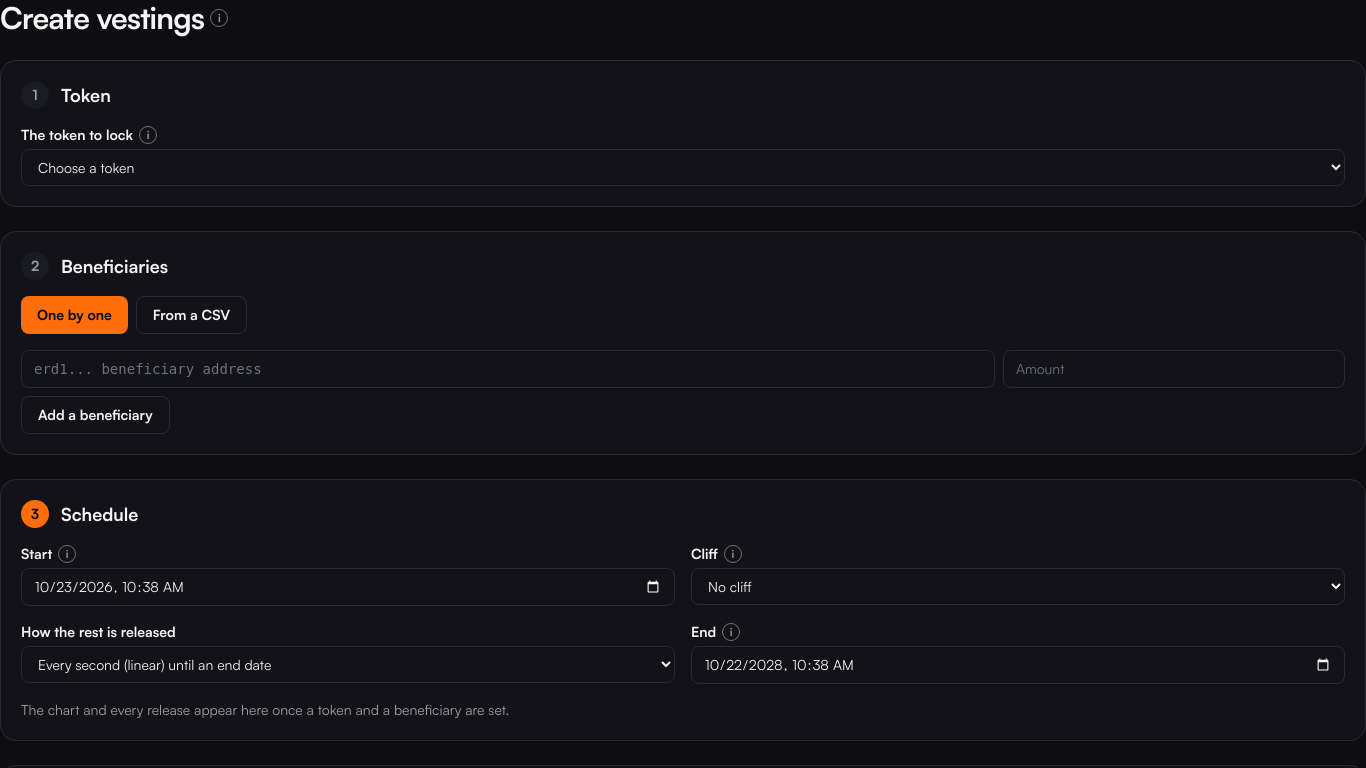
Test case: Create with the token fee set › shows 1% of each vesting, the EGLD fee and what is paid in all
Select "TFOX (TFOX-d61b09): 1,000,000,000,000" in the dropdown showing "Choose a token" below "The token to lock" at [683, 168], box [21,149,1345,186]
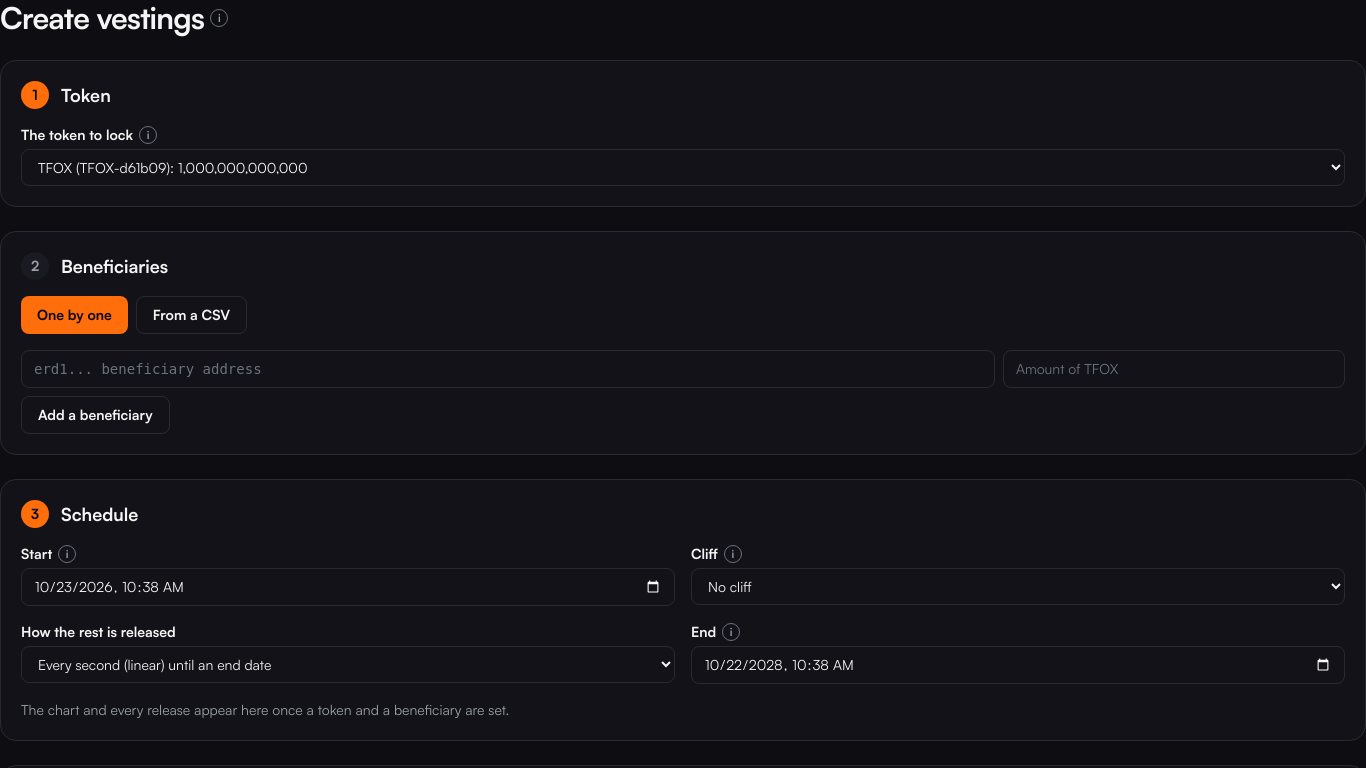
Type "erd14e7zqk5qz47fu7z75rmvzrzt5cvmffe9n7s73679xt6khu09erksehgl4u" into the field with placeholder "erd1... beneficiary address" at [508, 369], box [21,350,995,388]
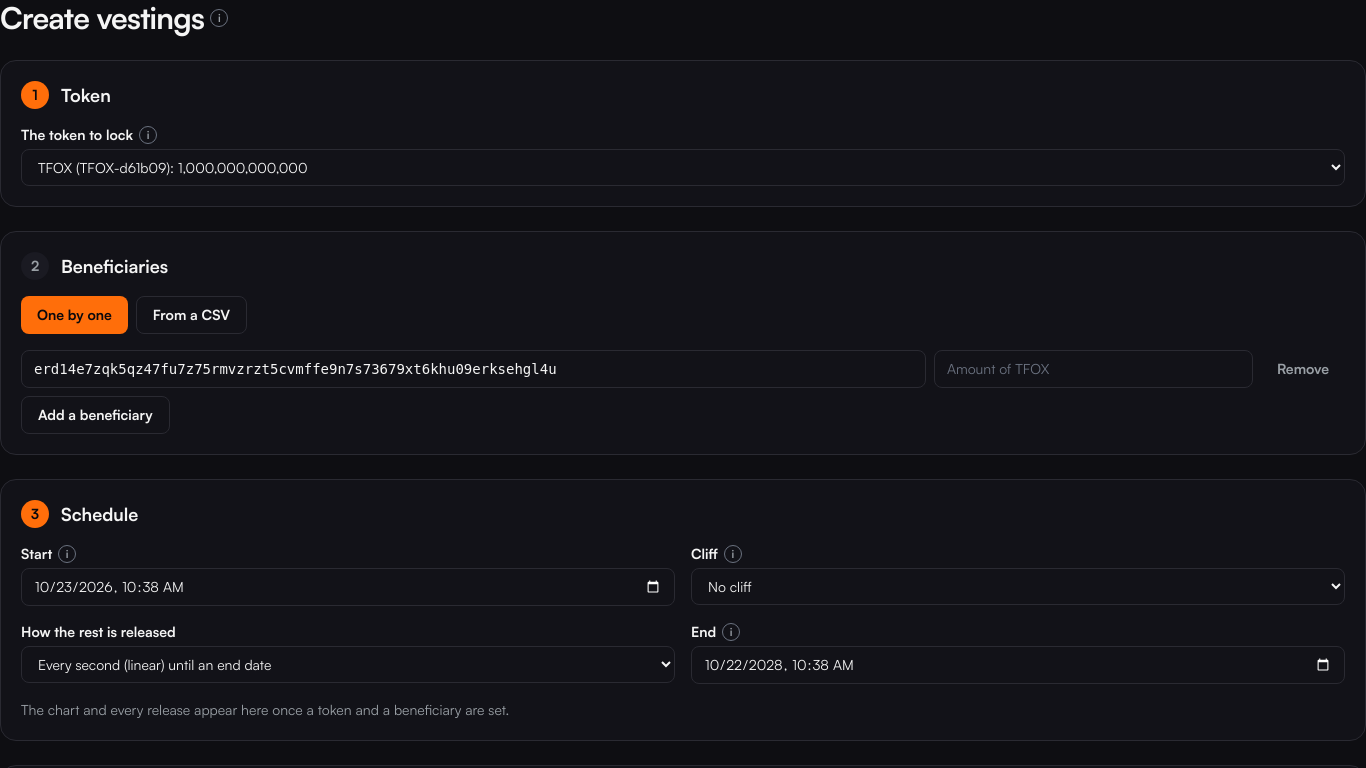
Type "1000" into the field with placeholder "Amount of TFOX" at [1094, 369], box [934,350,1253,388]
(page scrolled)
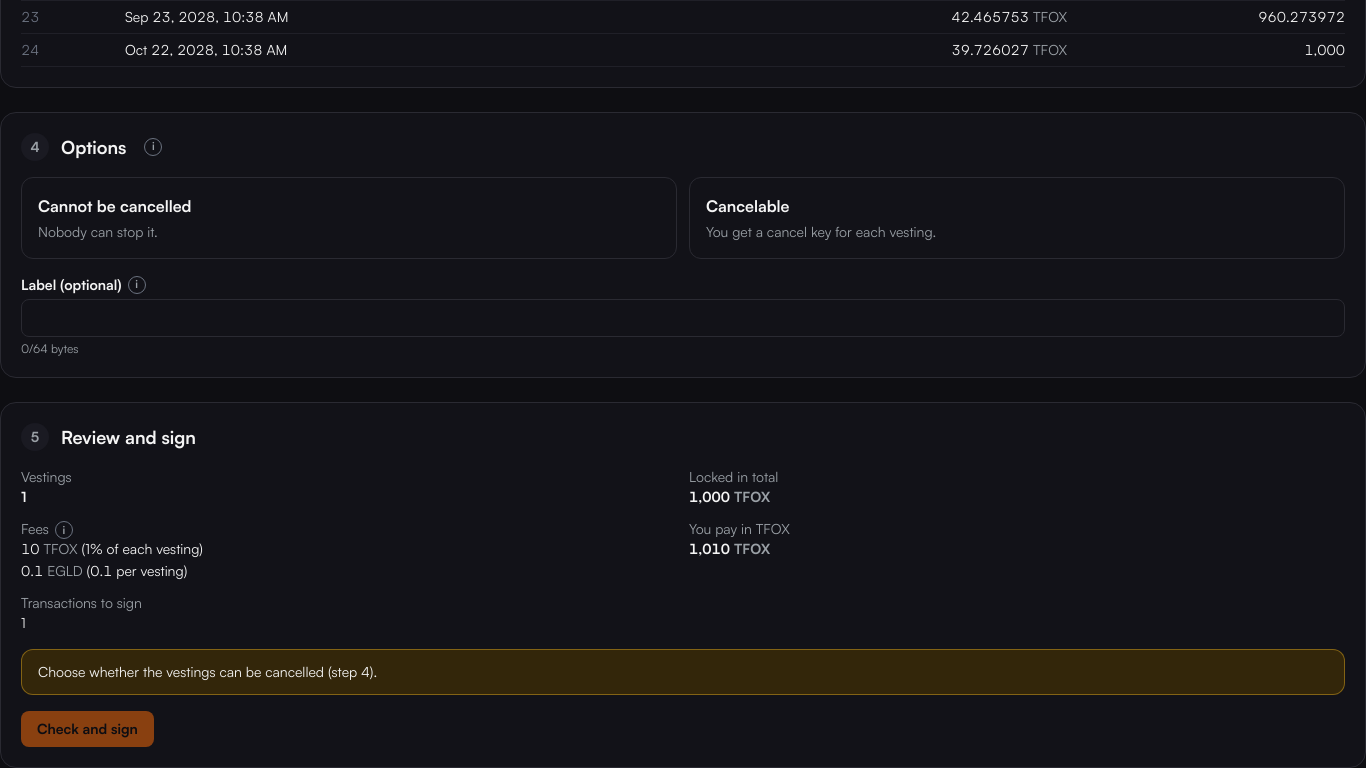
Now the list item "10TFOX (1% of each vesting)" is shown, box [21,540,203,557]
Now the list item "0.1EGLD (0.1 per vesting)" is shown, box [21,562,187,579]
Now the text "You pay in TFOX" is shown, box [689,520,790,537]
